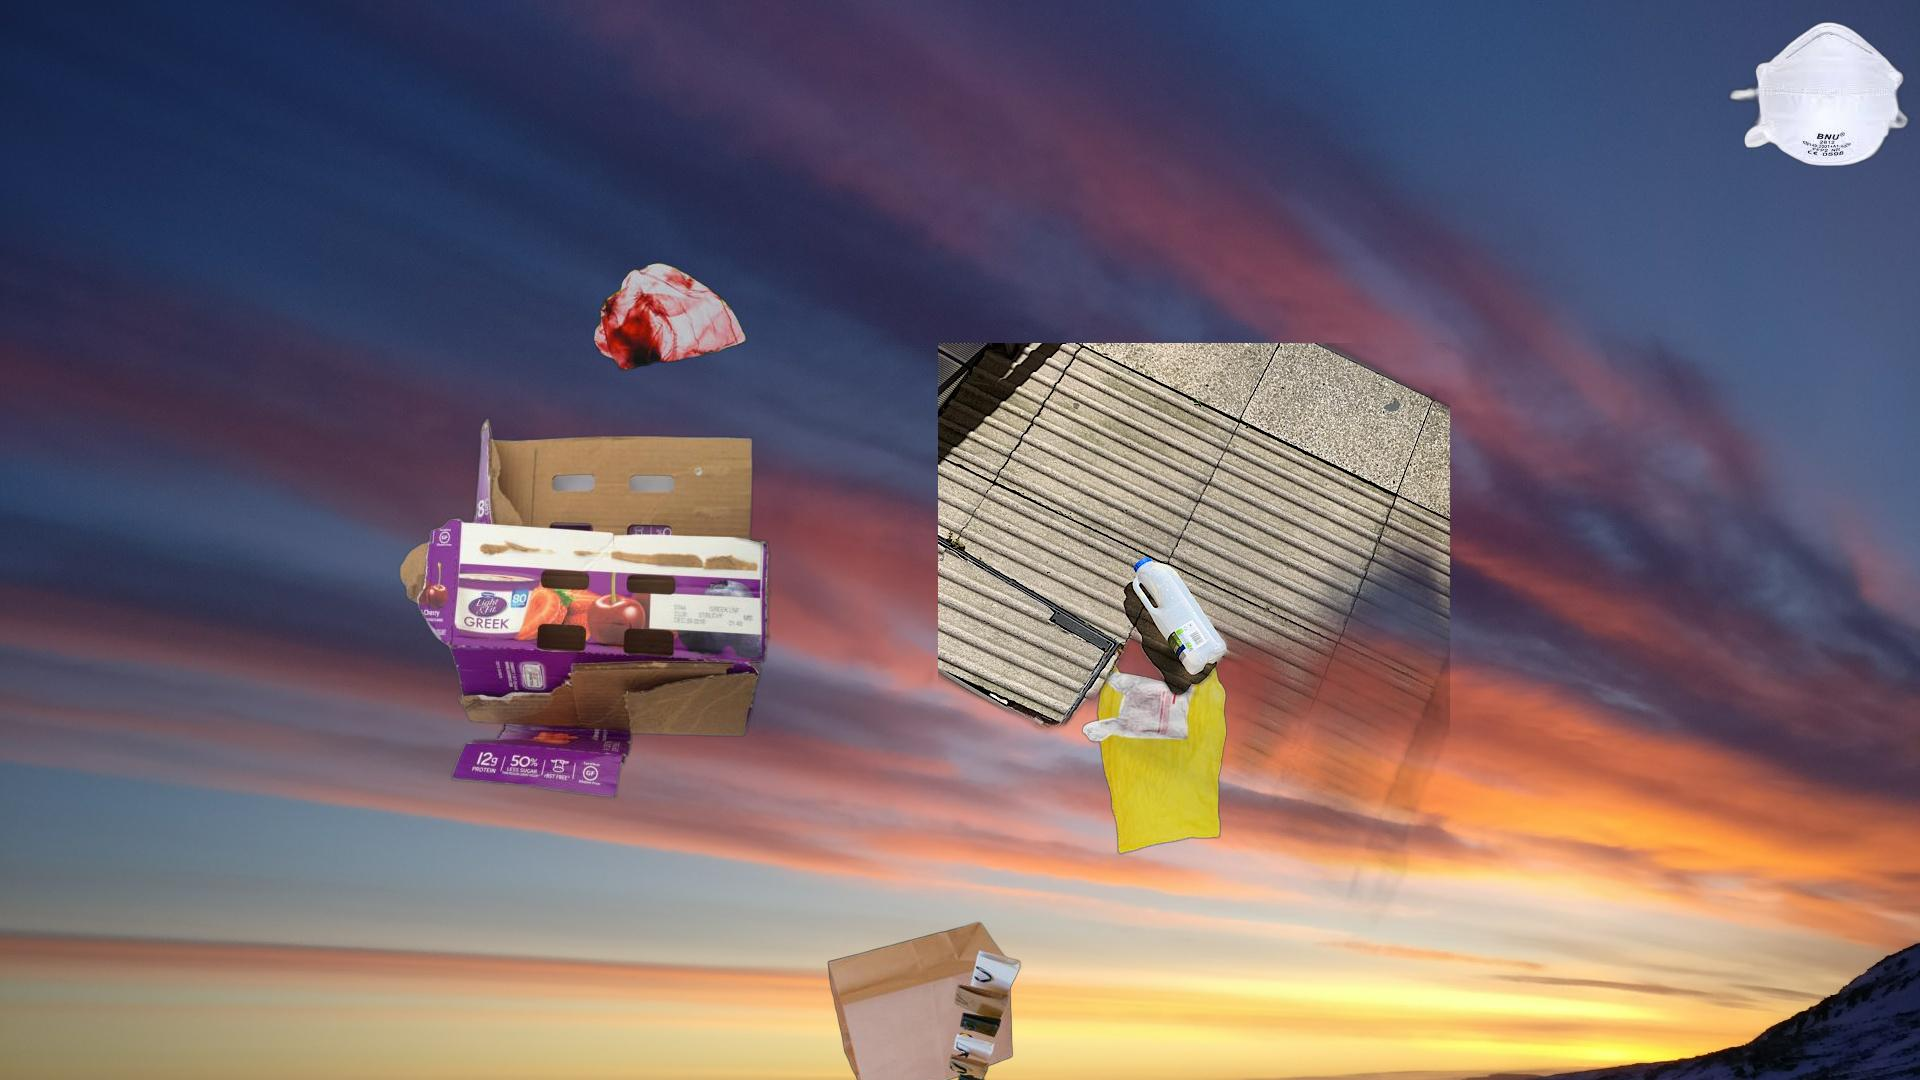paper-bag: (825, 919, 1025, 1080)
penholder: (1795, 628, 1920, 1080)
plastic-bag: (1079, 655, 1228, 857), (591, 258, 749, 373)
plastic-bottles: (938, 343, 1451, 1026)
trash: (1725, 18, 1920, 167)
trashbox-cardboard: (396, 417, 775, 800)
